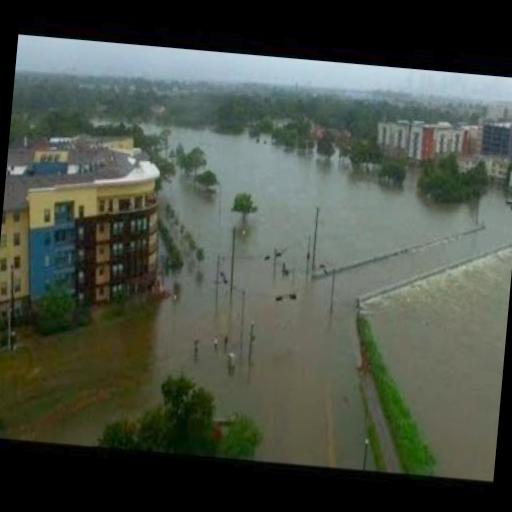flood: (140, 122, 505, 293), (250, 230, 486, 469), (360, 248, 512, 482), (0, 314, 164, 444), (157, 252, 232, 398), (257, 288, 308, 461), (453, 210, 512, 263)
house: (8, 147, 168, 321), (382, 112, 460, 162), (478, 118, 512, 160)
